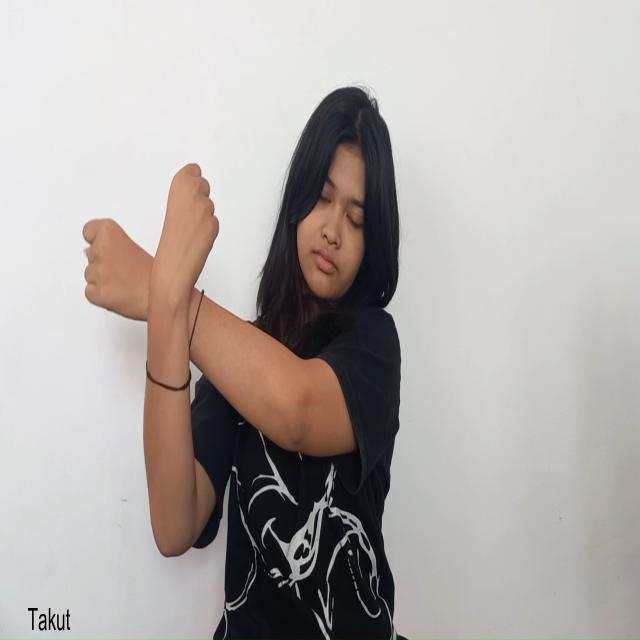Takut -BISINDO-: (81, 160, 220, 364)
